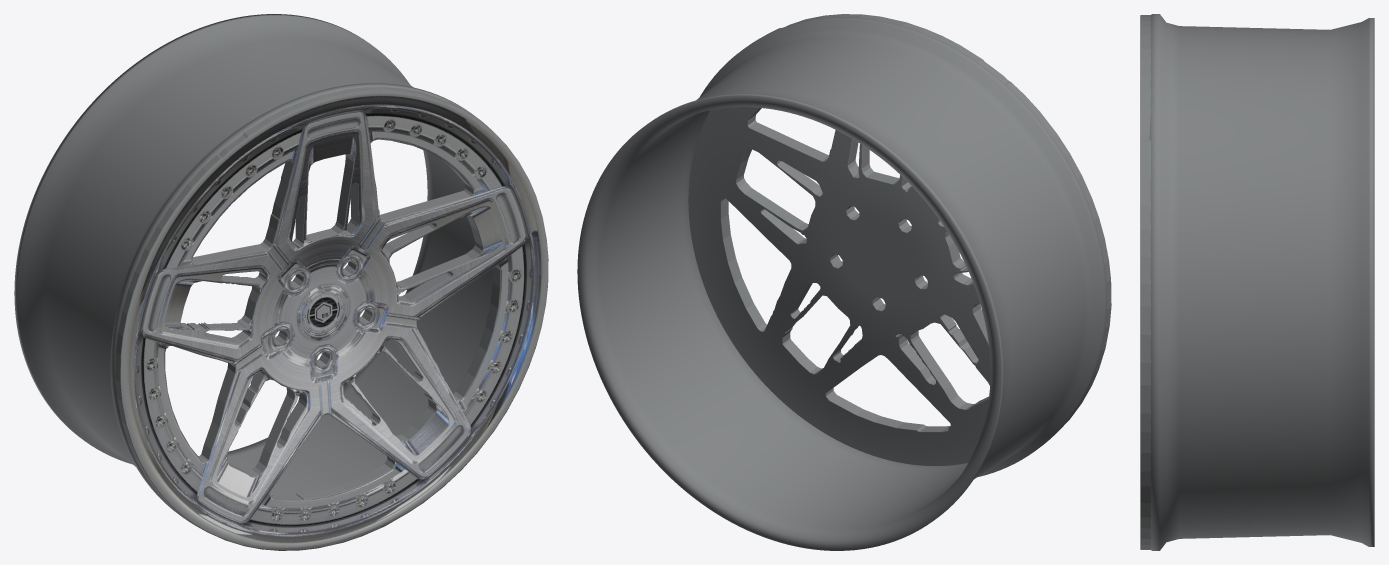
Rendered from e6-multipiece-sf7.glb.
3 renders of one model, left to right at view 1: azimuth 30°, elevation 25°; view 2: azimuth 150°, elevation 25°; view 3: azimuth 270°, elevation 25°, orthographic. The views are drawn at different scales.
Visible parts, largest first — view 1: Photo_traced_face_0, Approximate_rear_barrel; view 2: Approximate_rear_barrel, Photo_traced_face_0; view 3: Approximate_rear_barrel, Photo_traced_face_0.
Boxes of the visible parts, x1=… form: Photo_traced_face_0: x1=115, y1=87, x2=548, y2=550; Approximate_rear_barrel: x1=14, y1=14, x2=492, y2=529; Approximate_rear_barrel: x1=577, y1=17, x2=1107, y2=550; Photo_traced_face_0: x1=688, y1=14, x2=1111, y2=465; Approximate_rear_barrel: x1=1149, y1=14, x2=1374, y2=550; Photo_traced_face_0: x1=1140, y1=15, x2=1150, y2=549.
Bounding box in the file's own units: 2.06 × 2.06 × 0.9.
Materials: 2 (1 with a texture image).
